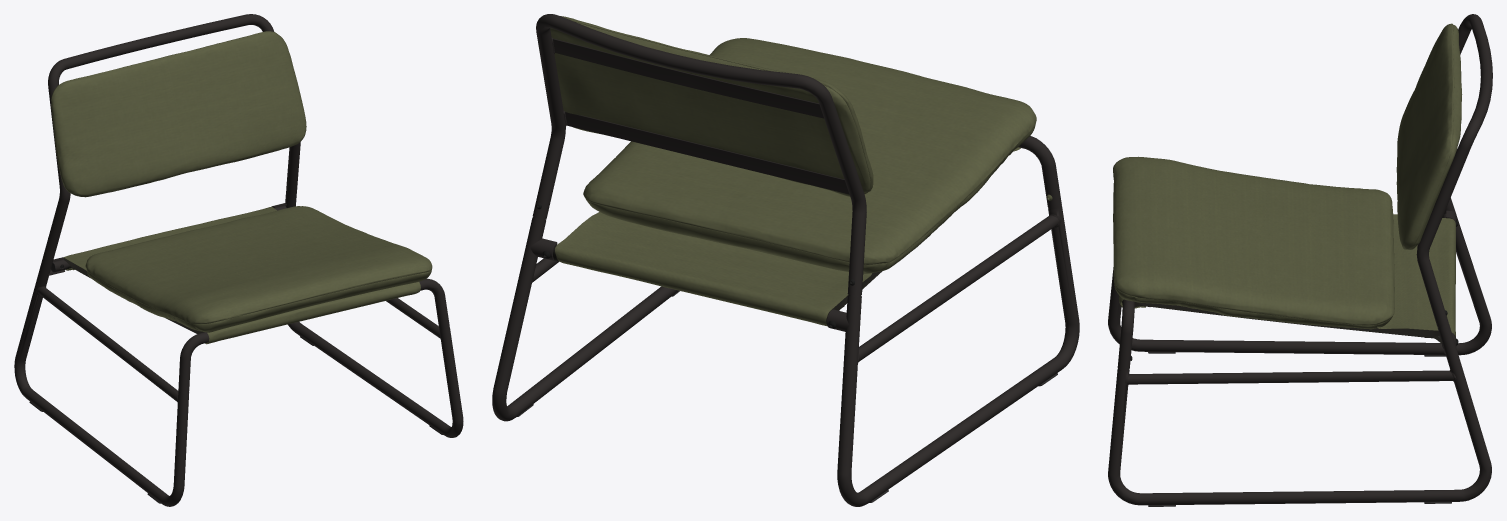
Rendered from LINNEB_CK_10487232.glb.
3 renders of one model, left to right at view 1: azimuth 30°, elevation 25°; view 2: azimuth 150°, elevation 25°; view 3: azimuth 270°, elevation 25°, orthographic. The views are drawn at different scales.
Visible parts, largest first — view 1: Mesh_0; view 2: Mesh_0; view 3: Mesh_0.
Boxes of the visible parts, x1,y1,x2,y2 form: Mesh_0: [14, 14, 463, 506]; Mesh_0: [492, 14, 1079, 506]; Mesh_0: [1108, 14, 1492, 506].
Bounding box in the file's own units: 0.6805 × 0.724 × 0.6968.
Materials: 2 (2 with a texture image).
